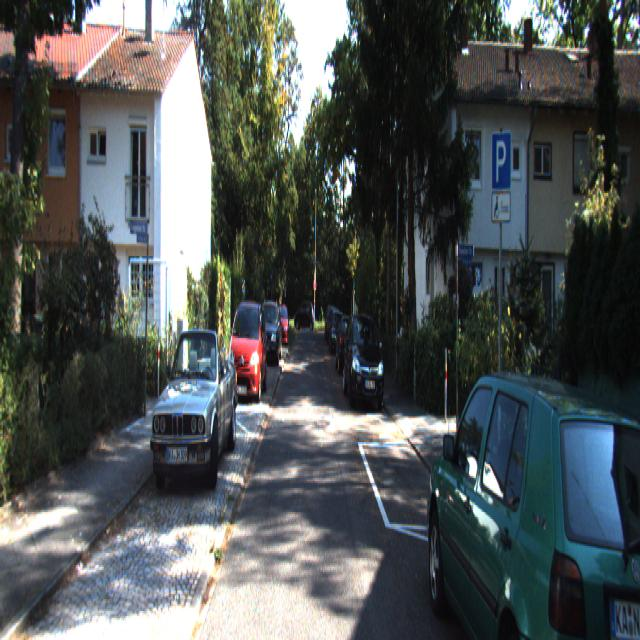Car: (423, 339, 640, 638), (150, 326, 238, 498), (343, 309, 387, 412), (228, 296, 266, 401), (256, 299, 282, 367), (336, 314, 362, 376), (272, 303, 289, 349)
DontCare: (324, 306, 341, 352), (296, 300, 316, 329)
